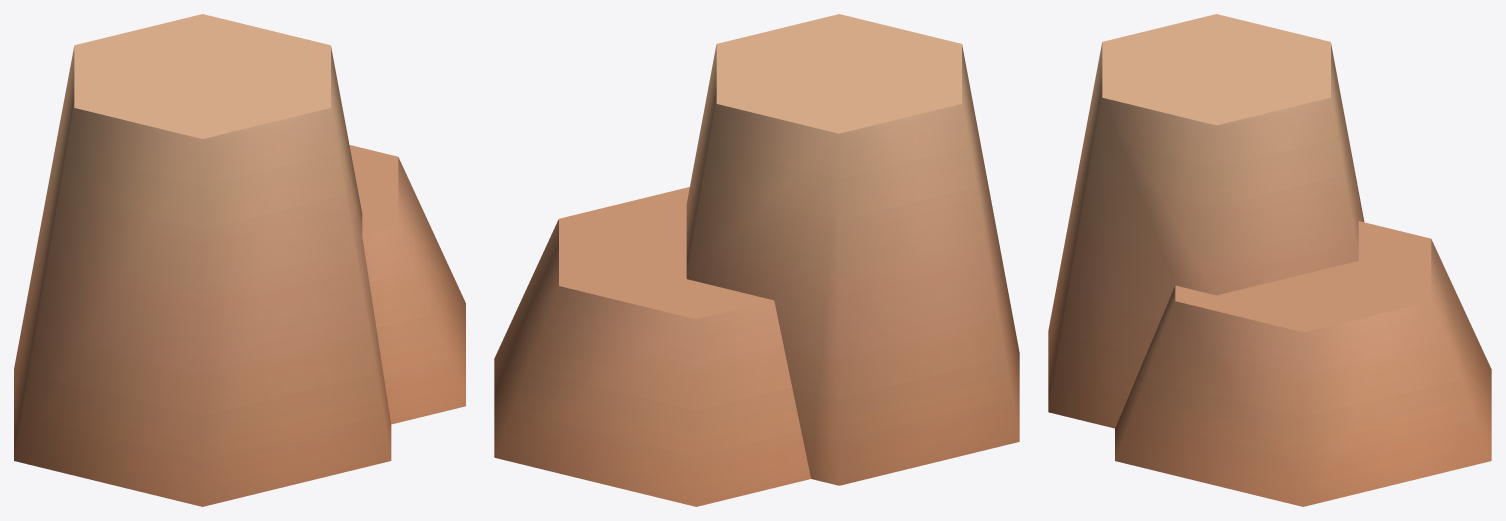
Rendered from resource-stone.glb.
3 views of the same model, side by side, from view 1: azimuth 30°, elevation 25°; view 2: azimuth 150°, elevation 25°; view 3: azimuth 270°, elevation 25° (orthographic). The views are drawn at different scales.
Parts seen in each view (by area): view 1: resource-stone; view 2: resource-stone; view 3: resource-stone.
Part boxes in pixels (x1,y1,x2,y2): resource-stone: (14, 14, 465, 506); resource-stone: (494, 14, 1019, 506); resource-stone: (1048, 14, 1491, 506).
Bounding box in the file's own units: 0.1653 × 0.1068 × 0.1422.
Materials: 1 (1 with a texture image).
